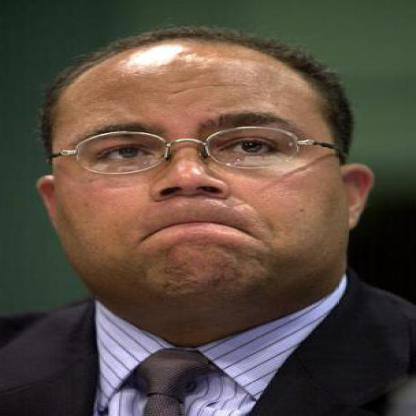face: (50, 28, 347, 324)
